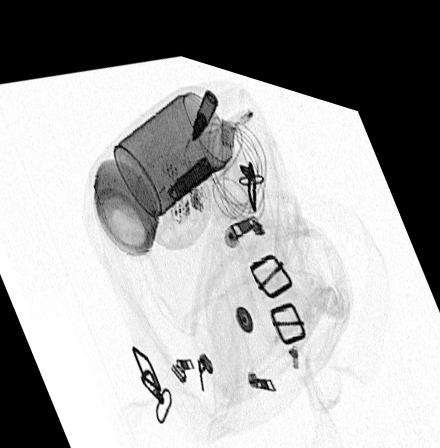Bullet: (191, 73, 220, 133)
